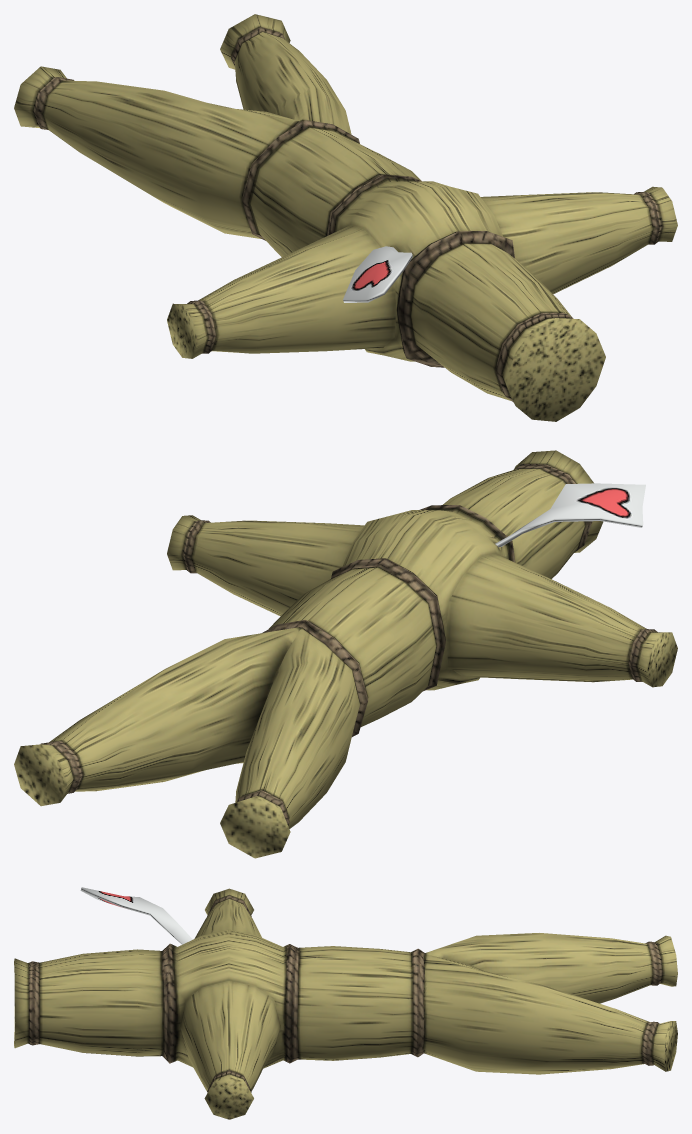
File: wpn_strawdoll.glb
3 views of the same model, one above another, from view 1: azimuth 30°, elevation 25°; view 2: azimuth 150°, elevation 25°; view 3: azimuth 270°, elevation 25° (orthographic). The views are drawn at different scales.
Parts seen in each view (by area): view 1: SK_WP_022_00; view 2: SK_WP_022_00; view 3: SK_WP_022_00.
Part boxes in pixels (left/top/right/bottom): SK_WP_022_00: left=14, top=14, right=677, bottom=421; SK_WP_022_00: left=14, top=450, right=677, bottom=858; SK_WP_022_00: left=14, top=887, right=677, bottom=1119.
Bounding box in the file's own units: 0.1326 × 0.0441 × 0.1974.
2 materials, 2 textured.
